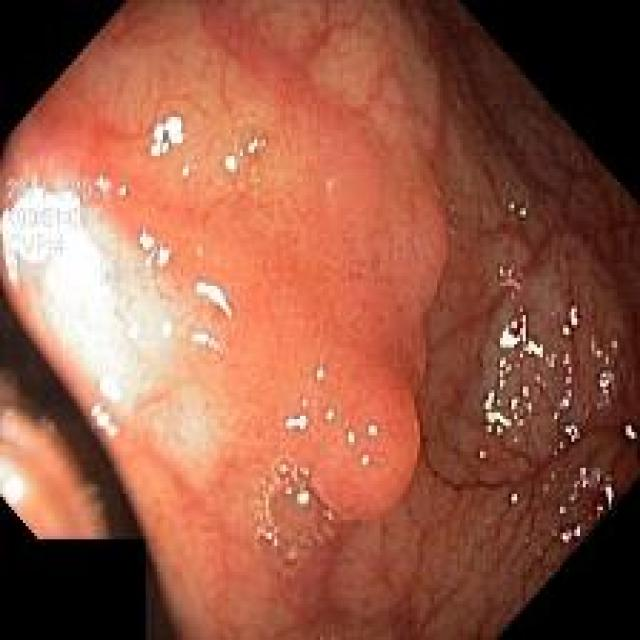Polyps: (300, 347, 420, 520)
